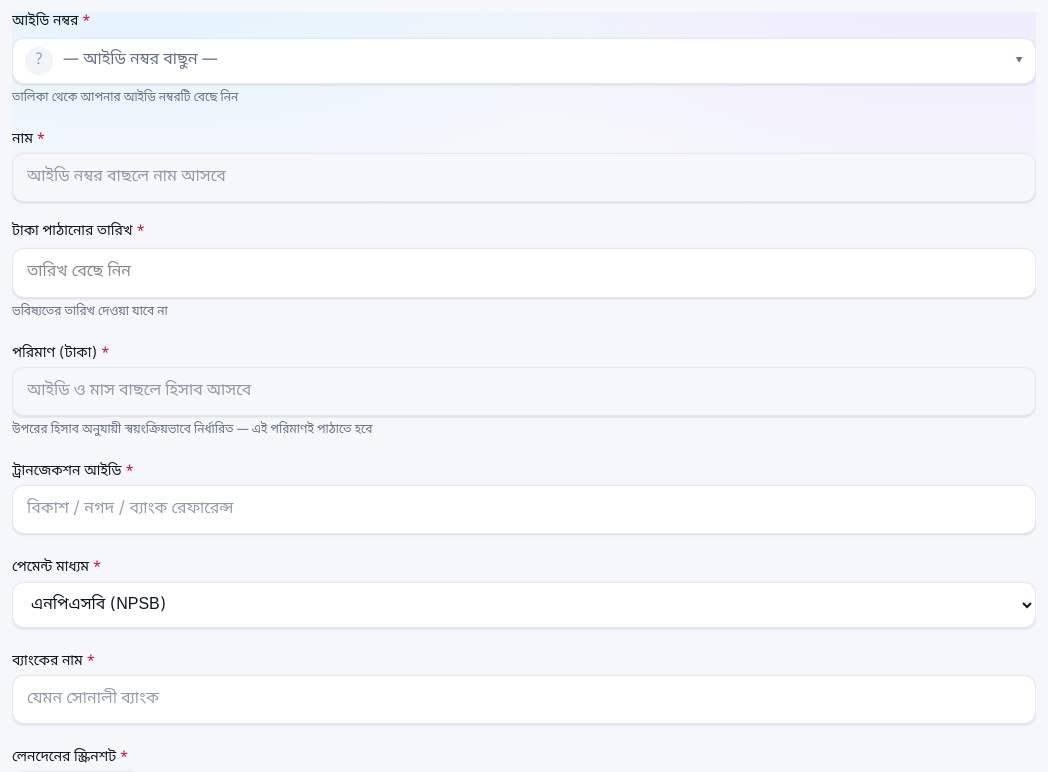
Scenario: public submission form — ID selector › offers every active member as an option
This screenshot has width=1048, height=772.
Click the dropdown labelled "? — আইডি নম্বর বাছুন — ▾": (140, 60) [12,38,1036,84]
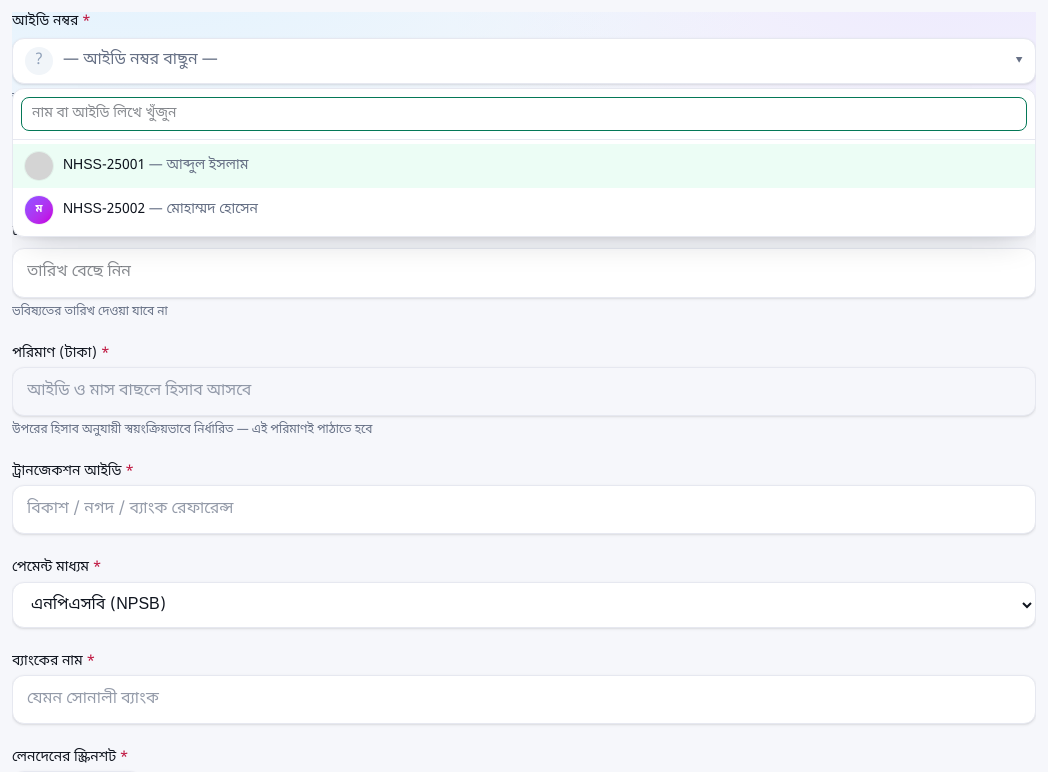
expect the number of options is 2: met, box [13,144,1035,188]; [25,196,258,224]
expect the option "NHSS-25001 — আব্দুল ইসলাম" is shown: met, box [13,144,1035,188]
